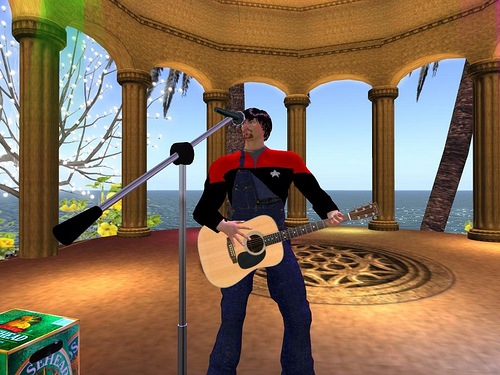guitar: (197, 201, 382, 289)
